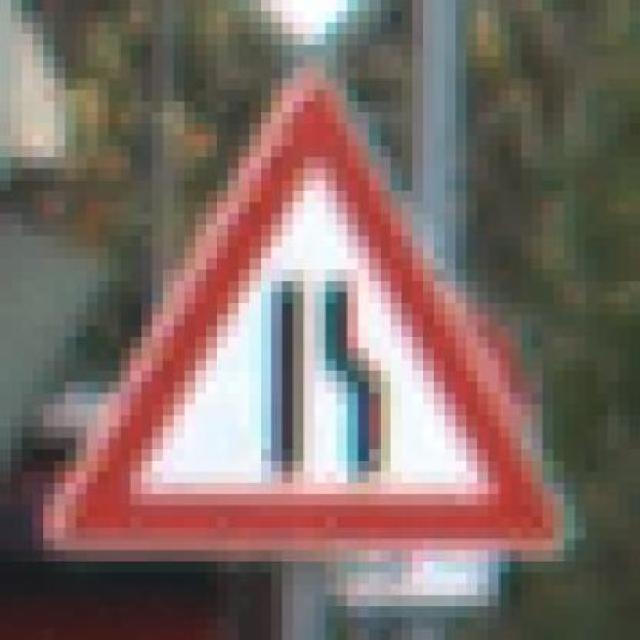-Road narrows on right: (43, 45, 586, 572)
